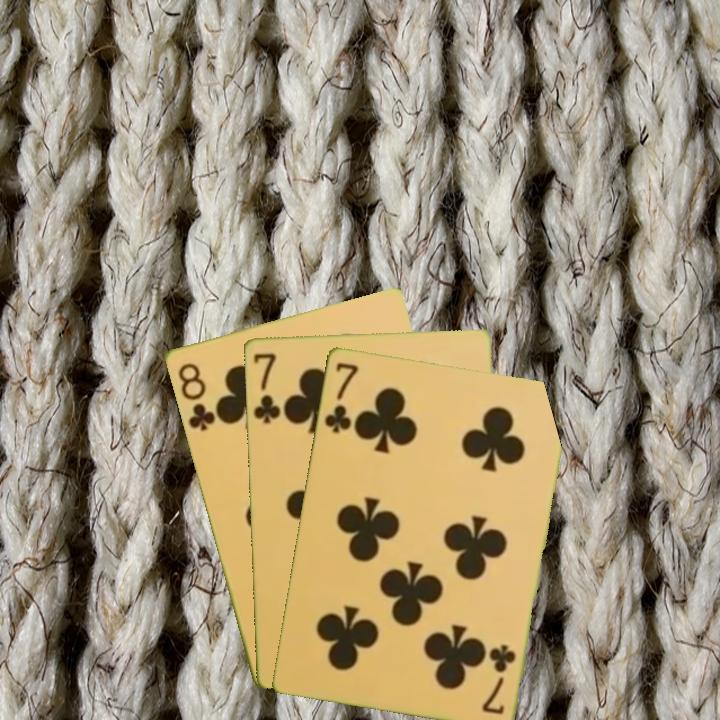7c: (320, 358, 361, 435), (479, 640, 519, 717), (250, 349, 283, 426)
8c: (173, 359, 218, 434)
